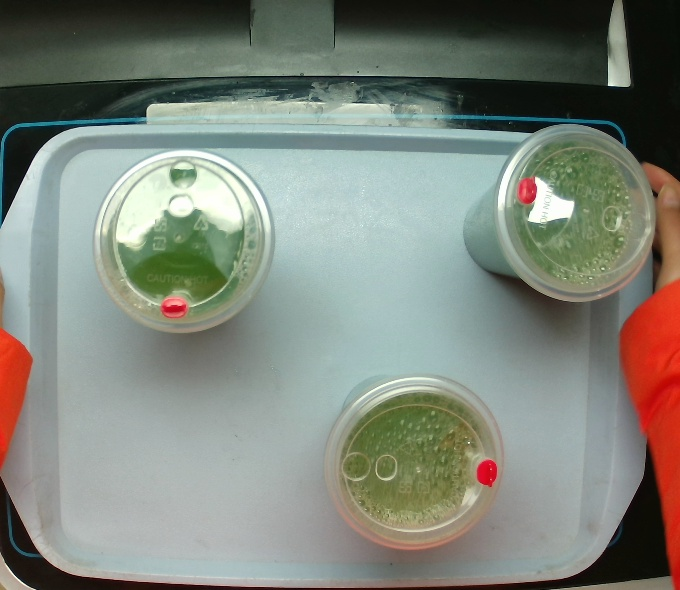wcq-HuangGuaZhi: (462, 121, 659, 304), (91, 146, 276, 336), (319, 369, 505, 552)
